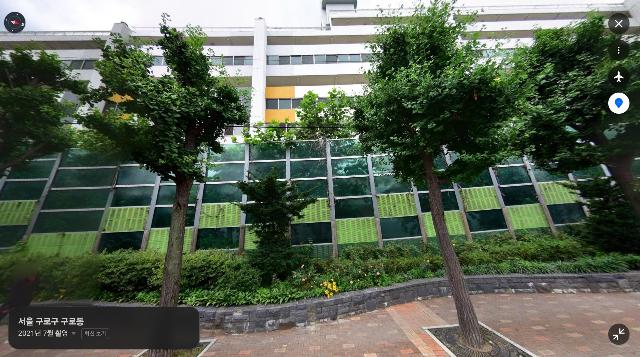other: (346, 0, 531, 352), (86, 12, 249, 357), (496, 9, 640, 254), (0, 38, 130, 308), (218, 164, 323, 289)
